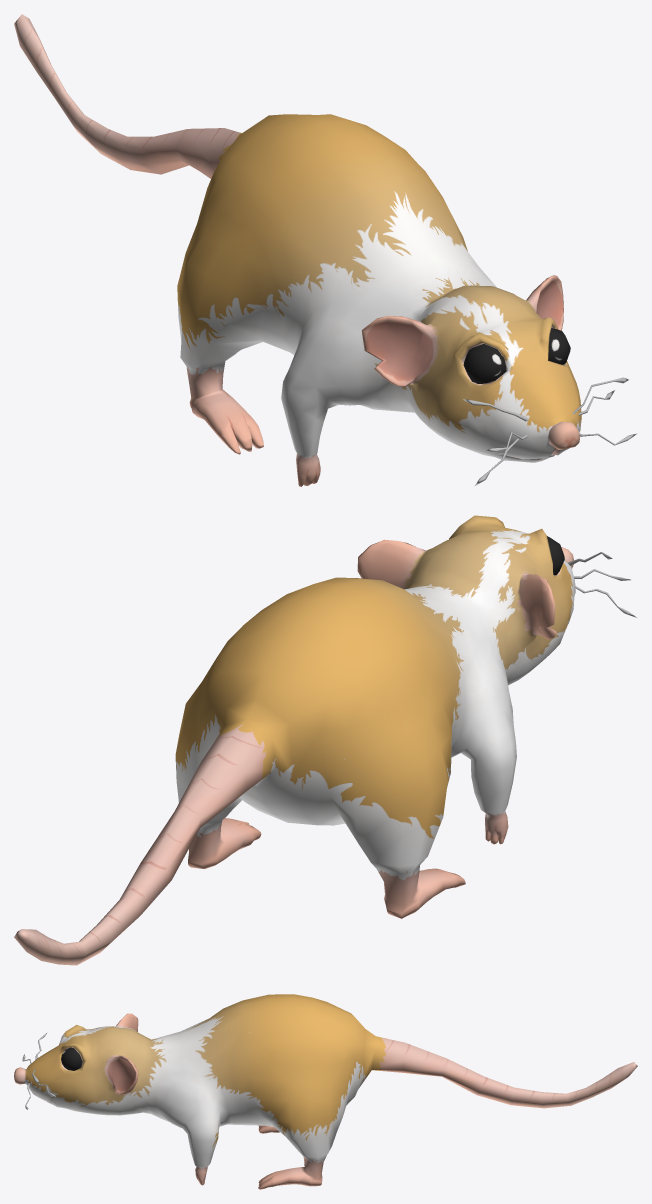
Rendered from Rat.fbx.
3 views of the same model, one above another, from view 1: azimuth 30°, elevation 25°; view 2: azimuth 150°, elevation 25°; view 3: azimuth 270°, elevation 25° (orthographic). The views are drawn at different scales.
Visible parts, largest first — view 1: Dumbo:Body, Dumbo:Eye_R, Dumbo:Eye_L; view 2: Dumbo:Body; view 3: Dumbo:Body, Dumbo:Eye_L.
Boxes of the visible parts, box(x1,y1,x2,y2) form: Dumbo:Body: box(14, 14, 581, 486); Dumbo:Eye_R: box(463, 344, 506, 383); Dumbo:Eye_L: box(548, 328, 570, 364); Dumbo:Body: box(14, 515, 575, 965); Dumbo:Body: box(14, 994, 637, 1189); Dumbo:Eye_L: box(61, 1047, 82, 1070).
Size of the model in its own units: 144 by 153 by 540.
